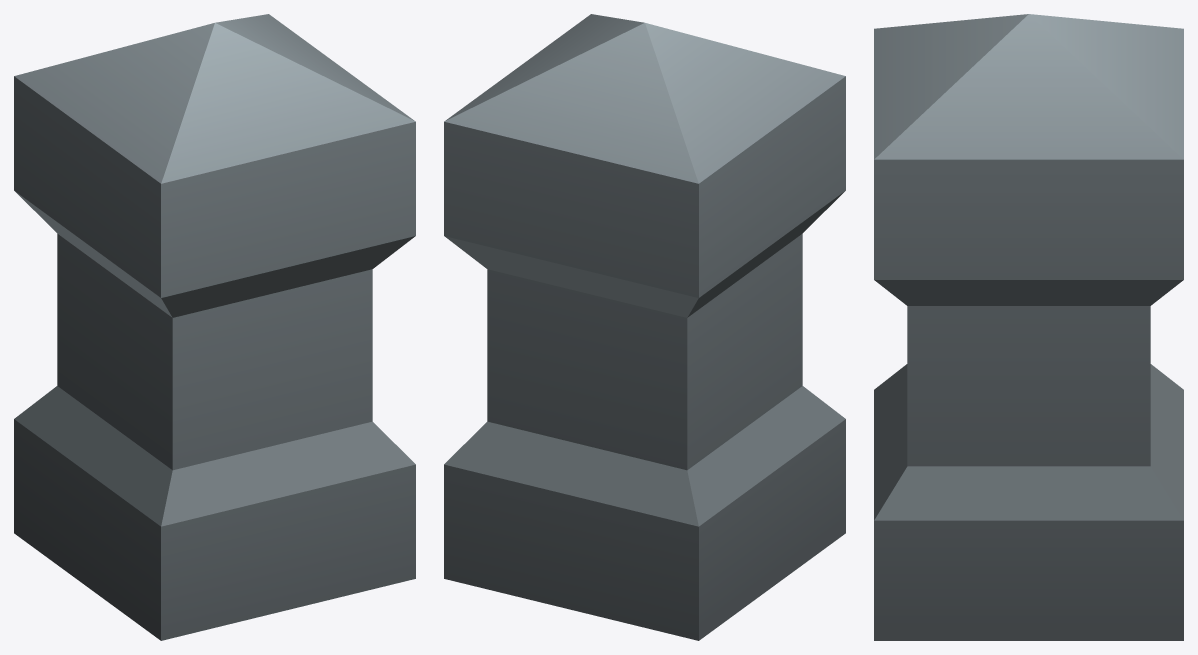
The model's file is column.obj.
3 views of the same model, side by side, from view 1: azimuth 30°, elevation 25°; view 2: azimuth 150°, elevation 25°; view 3: azimuth 270°, elevation 25° (orthographic). The views are drawn at different scales.
Visible parts, largest first — view 1: column; view 2: column; view 3: column.
Boxes of the visible parts, <box> form: column: <box>14,14,415,640</box>; column: <box>444,14,845,640</box>; column: <box>874,14,1183,640</box>.
Size of the model in its own units: 0.7 by 1.4 by 0.7.
1 material, 1 textured.
